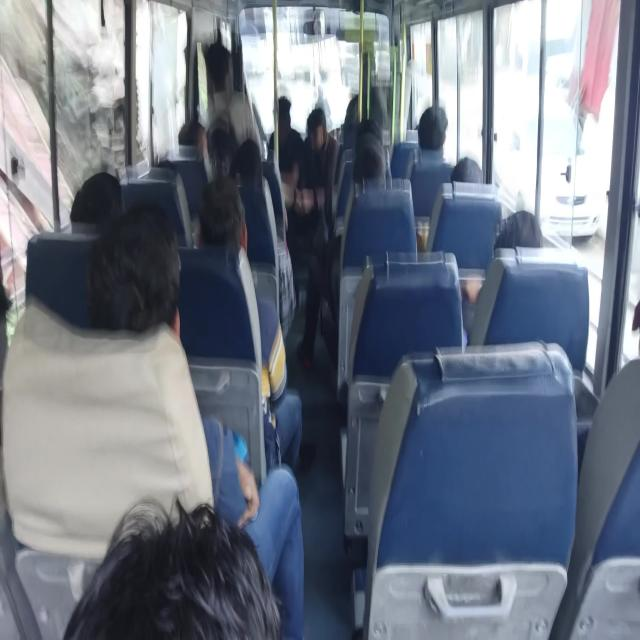person: (93, 498, 284, 640), (87, 219, 184, 347), (80, 167, 139, 257), (0, 252, 45, 367), (490, 196, 547, 265), (203, 195, 245, 270), (612, 274, 640, 366), (352, 140, 393, 202), (202, 42, 251, 92), (227, 144, 266, 197), (270, 98, 308, 144), (424, 97, 448, 161), (174, 124, 208, 156), (309, 105, 333, 148), (349, 118, 381, 145), (455, 159, 481, 187), (149, 146, 174, 171), (242, 132, 262, 160), (364, 126, 383, 150), (412, 118, 428, 134)
